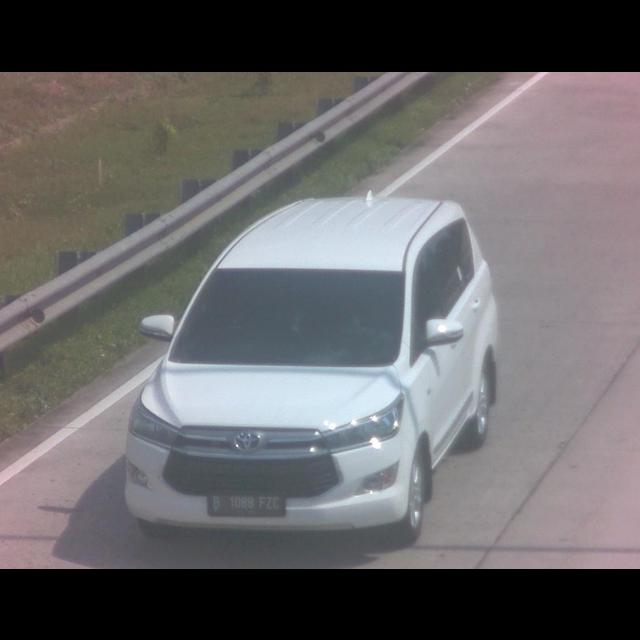plate: (205, 491, 285, 517)
